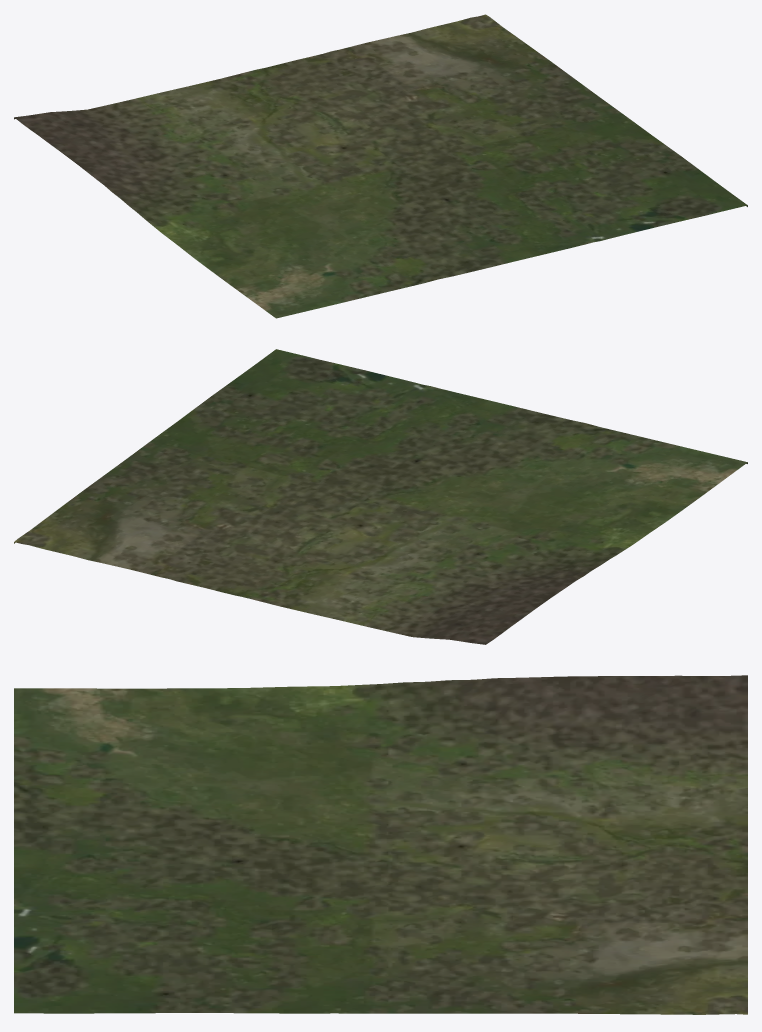
3 renders of one model, top to bottom at view 1: azimuth 30°, elevation 25°; view 2: azimuth 150°, elevation 25°; view 3: azimuth 270°, elevation 25°, orthographic. The views are drawn at different scales.
Bounding box in the file's own units: 250 × 7.28 × 241.
Materials: 1 (1 with a texture image).
